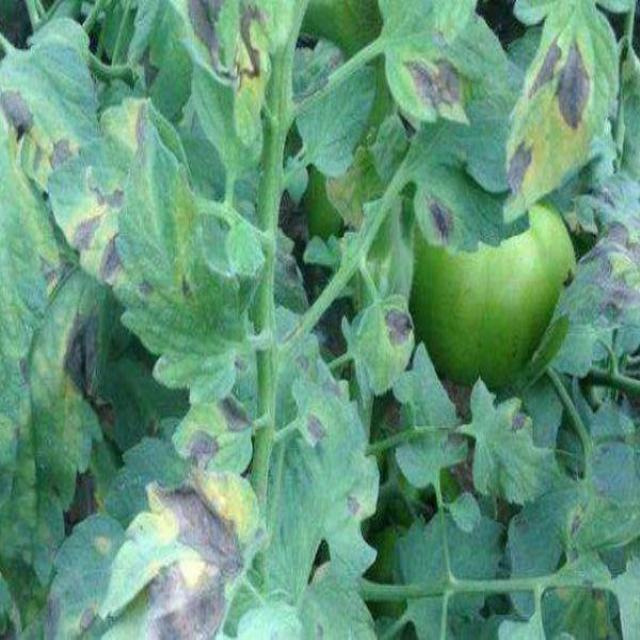Early_blight: (147, 472, 249, 640), (184, 1, 270, 97), (56, 304, 117, 433), (525, 31, 591, 132), (579, 221, 640, 326), (71, 184, 125, 289), (400, 50, 463, 115), (503, 136, 539, 202), (1, 85, 36, 146), (422, 192, 458, 248), (181, 427, 221, 473), (382, 301, 414, 348), (41, 587, 63, 640), (220, 397, 252, 433), (48, 135, 76, 172), (131, 98, 148, 152), (301, 410, 325, 444), (76, 605, 99, 636), (511, 407, 531, 436), (346, 493, 364, 518)
